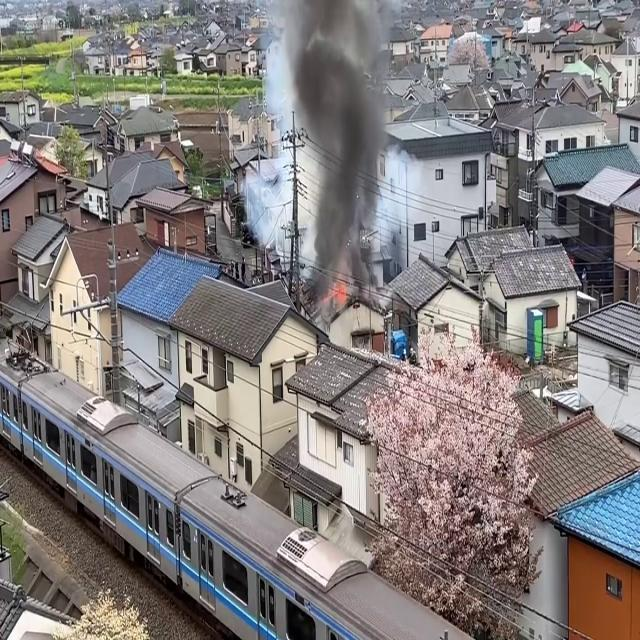Smoke: (290, 0, 395, 293)
